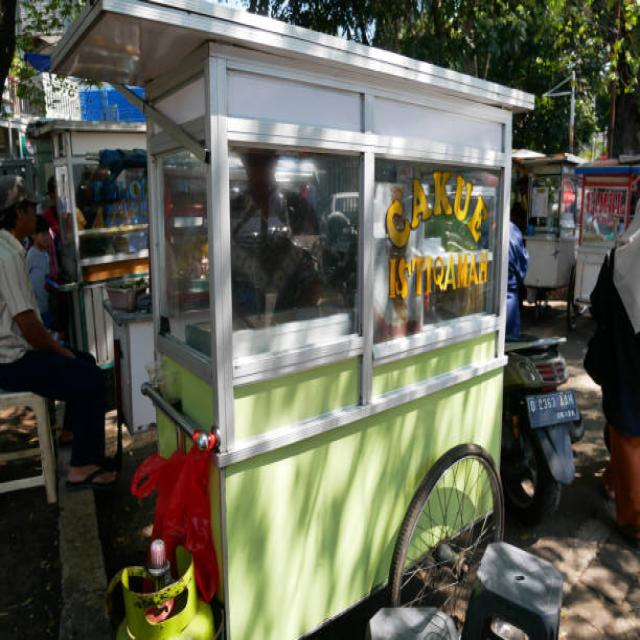Emperan: (39, 0, 543, 640)
